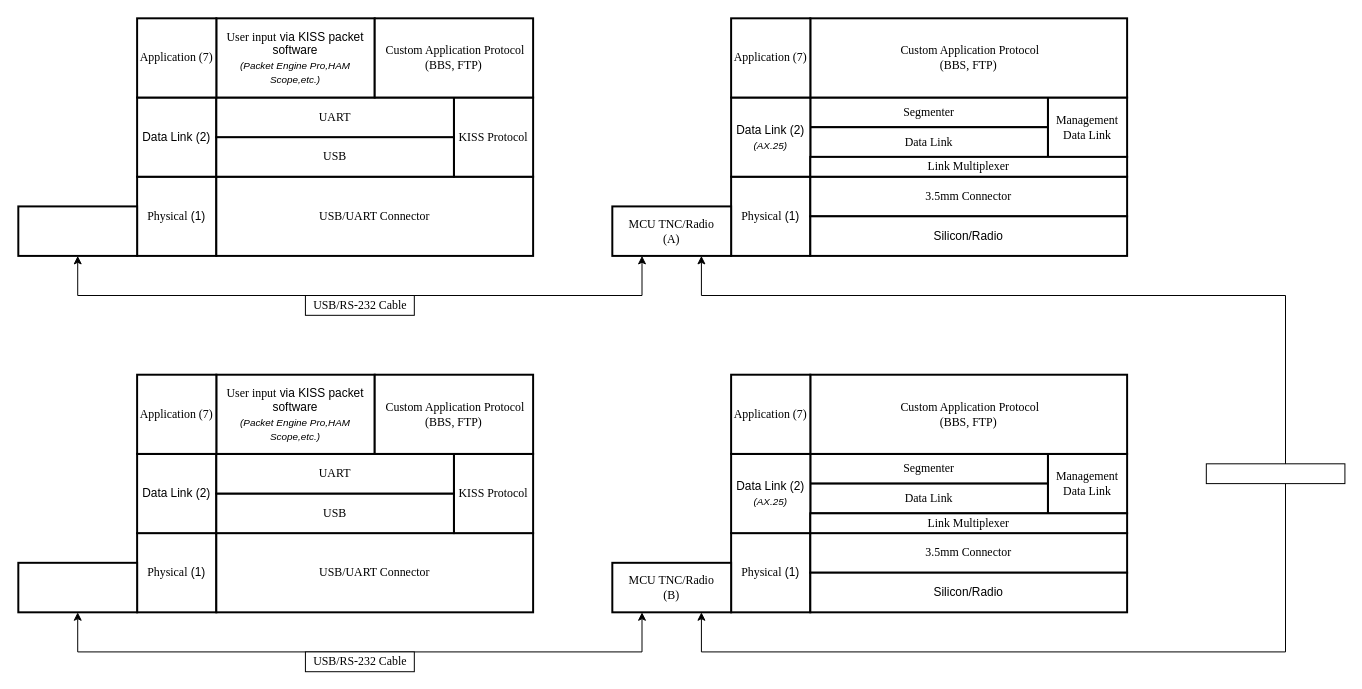
Image size: 1362x689. Some labels were removed from this diagram. Each missing label, with the centre of its shape:
"Short-Wave" RF Signals: pixel 1275 473
Computer (A): pixel 77 230
Computer (B): pixel 77 587
